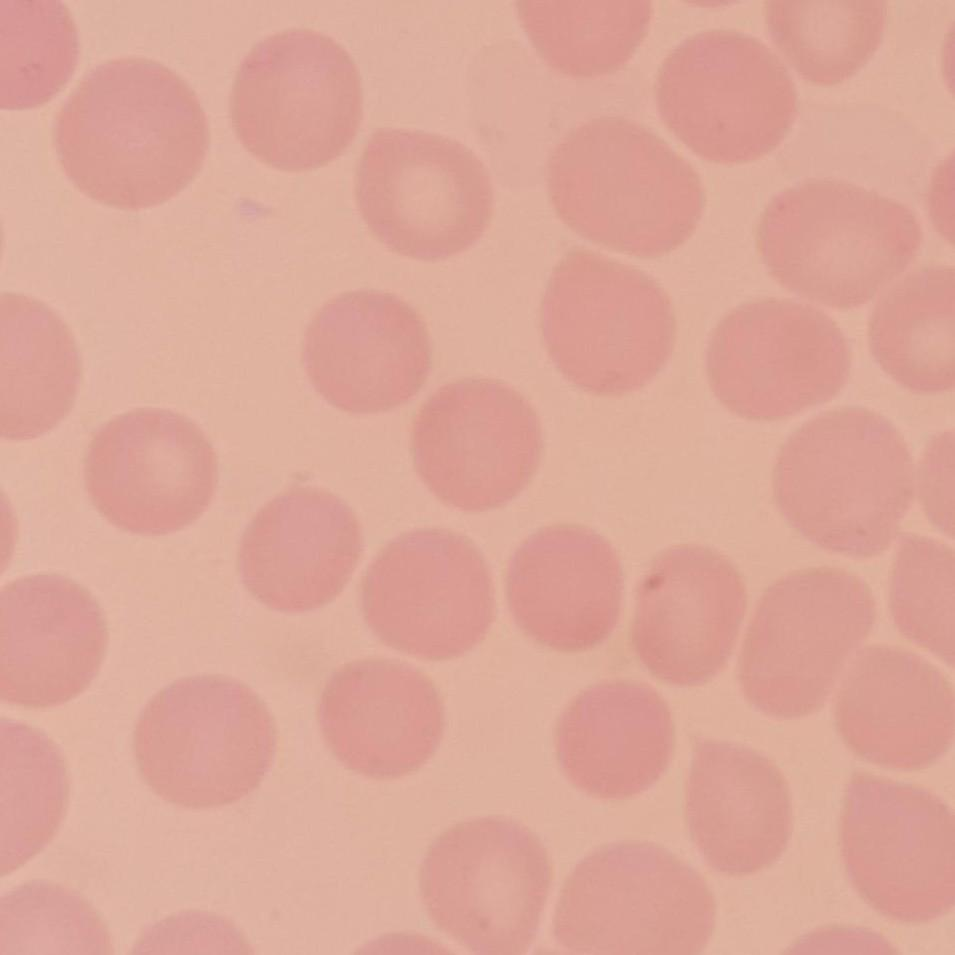Uninfected: (58, 57, 211, 210), (758, 181, 921, 311), (542, 119, 706, 247), (771, 407, 909, 559), (133, 672, 275, 812), (546, 247, 681, 394), (740, 570, 870, 721), (553, 840, 715, 954), (418, 814, 552, 951), (233, 33, 367, 169), (360, 528, 495, 662), (358, 123, 490, 260), (704, 296, 846, 421), (658, 31, 795, 159), (237, 484, 367, 617), (628, 544, 748, 688), (412, 380, 541, 512), (838, 772, 953, 920), (84, 408, 217, 535), (299, 289, 430, 416), (505, 523, 627, 655), (317, 660, 445, 783), (553, 680, 675, 803), (832, 646, 950, 773), (682, 738, 790, 874), (2, 572, 106, 709), (3, 294, 82, 439), (516, 3, 653, 79), (872, 269, 955, 392), (771, 3, 884, 80)
